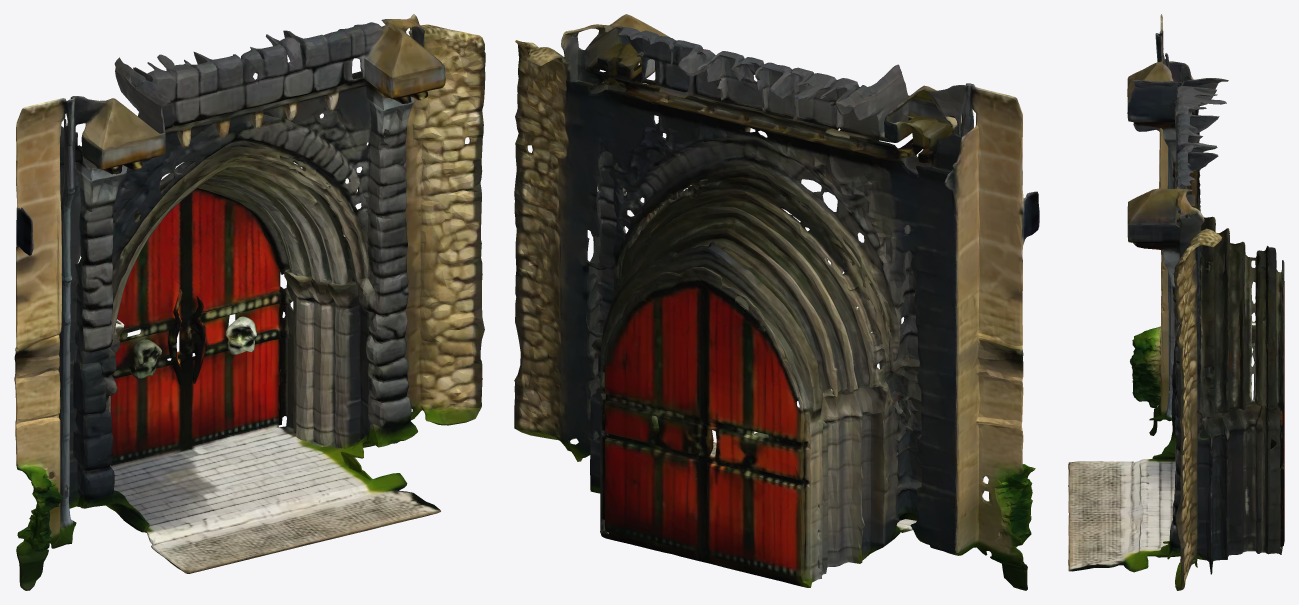
Rendered from landmark_ogre_gate.glb.
3 renders of one model, left to right at view 1: azimuth 30°, elevation 25°; view 2: azimuth 150°, elevation 25°; view 3: azimuth 270°, elevation 25°, orthographic. The views are drawn at different scales.
Parts seen in each view (by area): view 1: geometry_0; view 2: geometry_0; view 3: geometry_0.
Part boxes in pixels (bbox=[...]): geometry_0: bbox=[14, 14, 485, 590]; geometry_0: bbox=[514, 14, 1039, 590]; geometry_0: bbox=[1068, 14, 1284, 590].
Size of the model in its own units: 1 by 0.9561 by 0.4445.
Materials: 1 (1 with a texture image).
